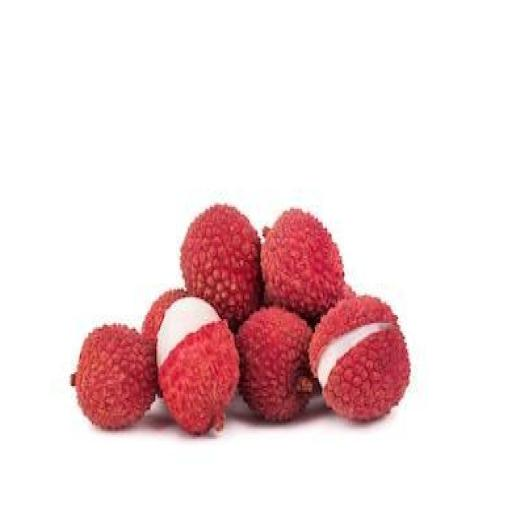lychee: (308, 296, 408, 421), (156, 298, 237, 433), (181, 205, 260, 326), (261, 209, 342, 319), (236, 308, 314, 421), (72, 325, 155, 429), (140, 290, 186, 344)
